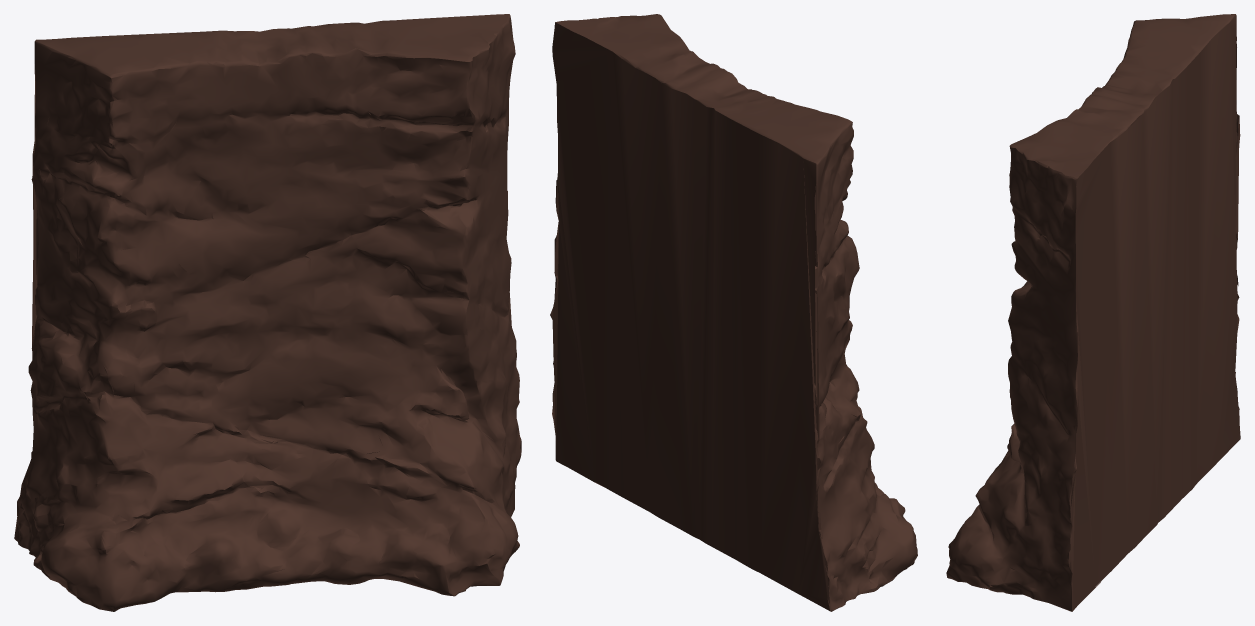
File: Wall_Ben_45Out.fbx
3 renders of one model, left to right at view 1: azimuth 30°, elevation 25°; view 2: azimuth 150°, elevation 25°; view 3: azimuth 270°, elevation 25°, orthographic. The views are drawn at different scales.
Parts seen in each view (by area): view 1: Wall_Ben_45Out; view 2: Wall_Ben_45Out; view 3: Wall_Ben_45Out.
Part boxes in pixels (bbox=[...]): Wall_Ben_45Out: bbox=[14, 14, 521, 611]; Wall_Ben_45Out: bbox=[550, 14, 917, 611]; Wall_Ben_45Out: bbox=[946, 14, 1240, 611].
Size of what is drawn, in the model's own units: 1398 by 1546 by 925.
Materials: 1 (1 with a texture image).
